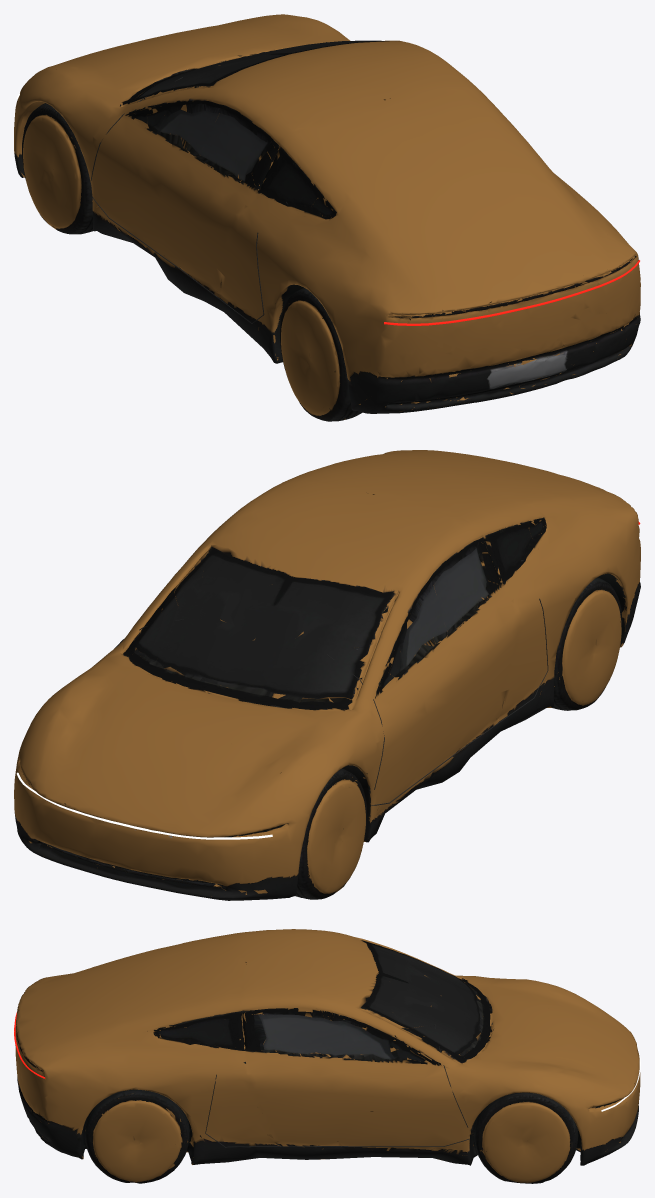
The model's file is compare-recoloured.glb.
3 views of the same model, one above another, from view 1: azimuth 30°, elevation 25°; view 2: azimuth 150°, elevation 25°; view 3: azimuth 270°, elevation 25° (orthographic). The views are drawn at different scales.
Visible parts, largest first — view 1: Meshy_Cybercab_ClosedDoors, Rear light; view 2: Meshy_Cybercab_ClosedDoors, Front light; view 3: Meshy_Cybercab_ClosedDoors, Door seam.001.
Part boxes in pixels (x1,y1,x2,y2): Meshy_Cybercab_ClosedDoors: [14, 14, 640, 421]; Rear light: [384, 260, 639, 325]; Meshy_Cybercab_ClosedDoors: [14, 450, 640, 900]; Front light: [16, 772, 272, 839]; Meshy_Cybercab_ClosedDoors: [15, 929, 640, 1183]; Door seam.001: [205, 1024, 472, 1147].
Bounding box in the file's own units: 1.84 × 1.36 × 4.46.
4 materials, 1 textured.
